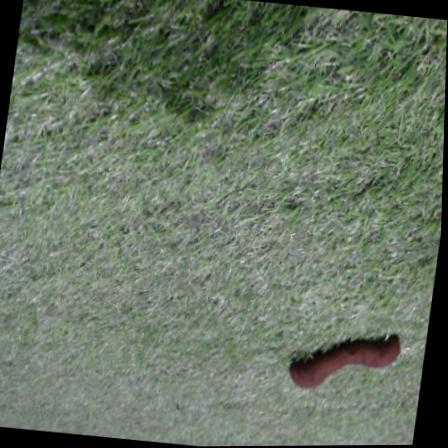dog-poop: (280, 318, 411, 402)
